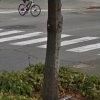Bicycle: (14, 3, 42, 17)
